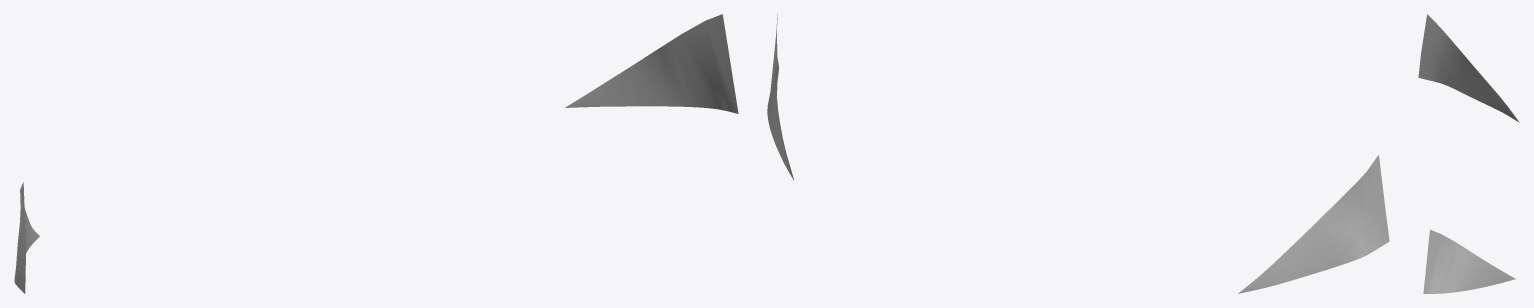
The model's file is Jac_COP_UNDERJac_Back.glb.
The picture shows the model from 3 angles, left to right: view 1: azimuth 30°, elevation 25°; view 2: azimuth 150°, elevation 25°; view 3: azimuth 270°, elevation 25°; orthographic projection. The views are drawn at different scales.
Parts seen in each view (by area): view 1: Jac_COP_UNDERJac_Back1; view 2: Jac_COP_UNDERJac_Back1; view 3: Jac_COP_UNDERJac_Back1.
Part boxes in pixels (x1,y1,x2,y2): Jac_COP_UNDERJac_Back1: (14, 14, 738, 293); Jac_COP_UNDERJac_Back1: (767, 14, 1389, 293); Jac_COP_UNDERJac_Back1: (1418, 14, 1519, 293).
Bounding box in the file's own units: 0.6923 × 0.1204 × 0.1361.
1 material, 1 textured.
